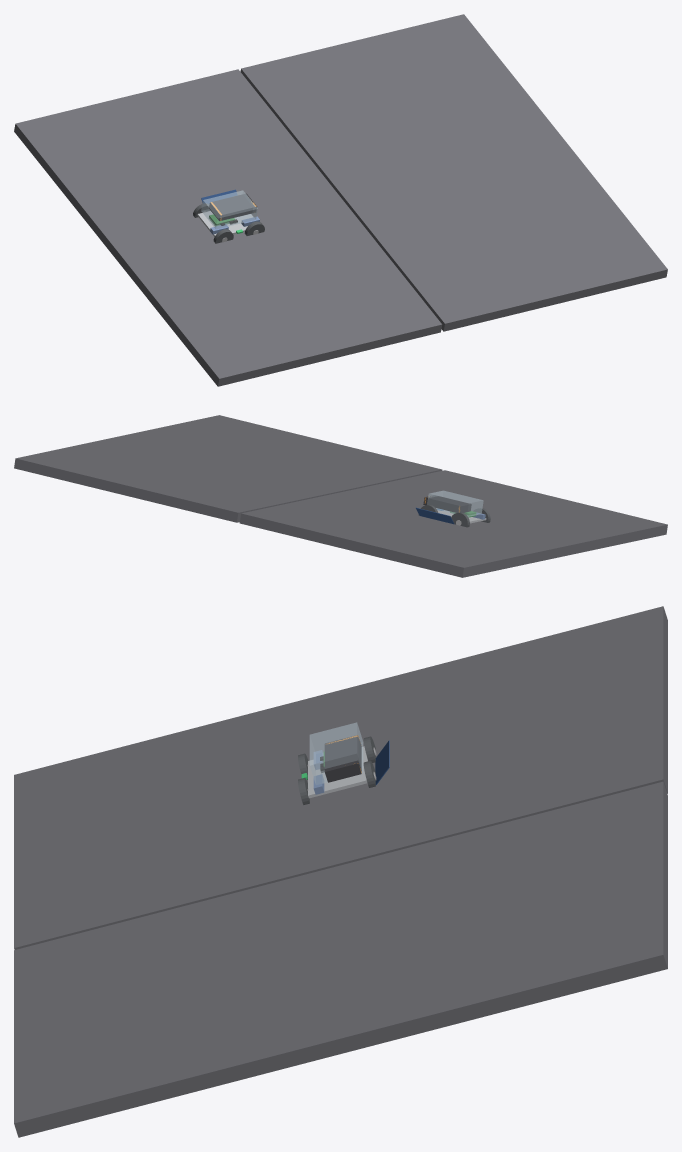
The model's file is pv_clean_rain_v21.glb.
3 views of the same model, one above another, from view 1: azimuth 30°, elevation 25°; view 2: azimuth 150°, elevation 25°; view 3: azimuth 270°, elevation 25° (orthographic). The views are drawn at different scales.
Visible parts, largest first — view 1: PV_Module_2_Frame, PV_Module_1_Frame, ZipBagShroud, GOODaaa_D4004; view 2: PV_Module_1_Frame, PV_Module_2_Frame, ZipBagShroud, GOODaaa_D4004, SolarFlap; view 3: PV_Module_2_Frame, PV_Module_1_Frame, ZipBagShroud, GOODaaa_D4004, Chassis.
Part boxes in pixels (box(x1,y1,x2,y2)): PV_Module_2_Frame: box(240, 14, 667, 331); PV_Module_1_Frame: box(14, 69, 442, 386); ZipBagShroud: box(201, 190, 257, 228); GOODaaa_D4004: box(209, 193, 257, 220); PV_Module_1_Frame: box(239, 470, 667, 577); PV_Module_2_Frame: box(14, 415, 442, 522); ZipBagShroud: box(427, 490, 483, 516); GOODaaa_D4004: box(423, 495, 471, 512); SolarFlap: box(416, 507, 454, 524); PV_Module_2_Frame: box(14, 781, 667, 1137); PV_Module_1_Frame: box(14, 606, 667, 949); ZipBagShroud: box(309, 722, 363, 784); GOODaaa_D4004: box(324, 735, 361, 782); Chassis: box(308, 746, 367, 798).
Bounding box in the file's own units: 2.01 × 0.4927 × 1.6.
